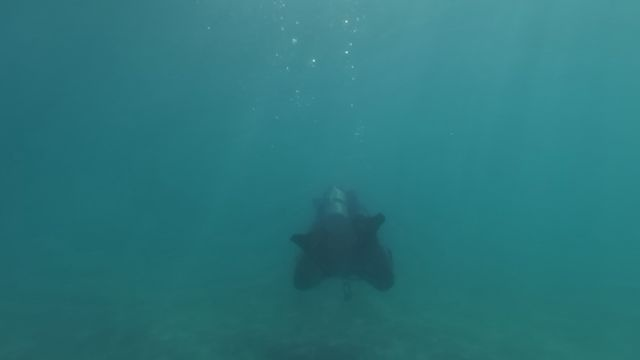Diver: (288, 190, 405, 296)
